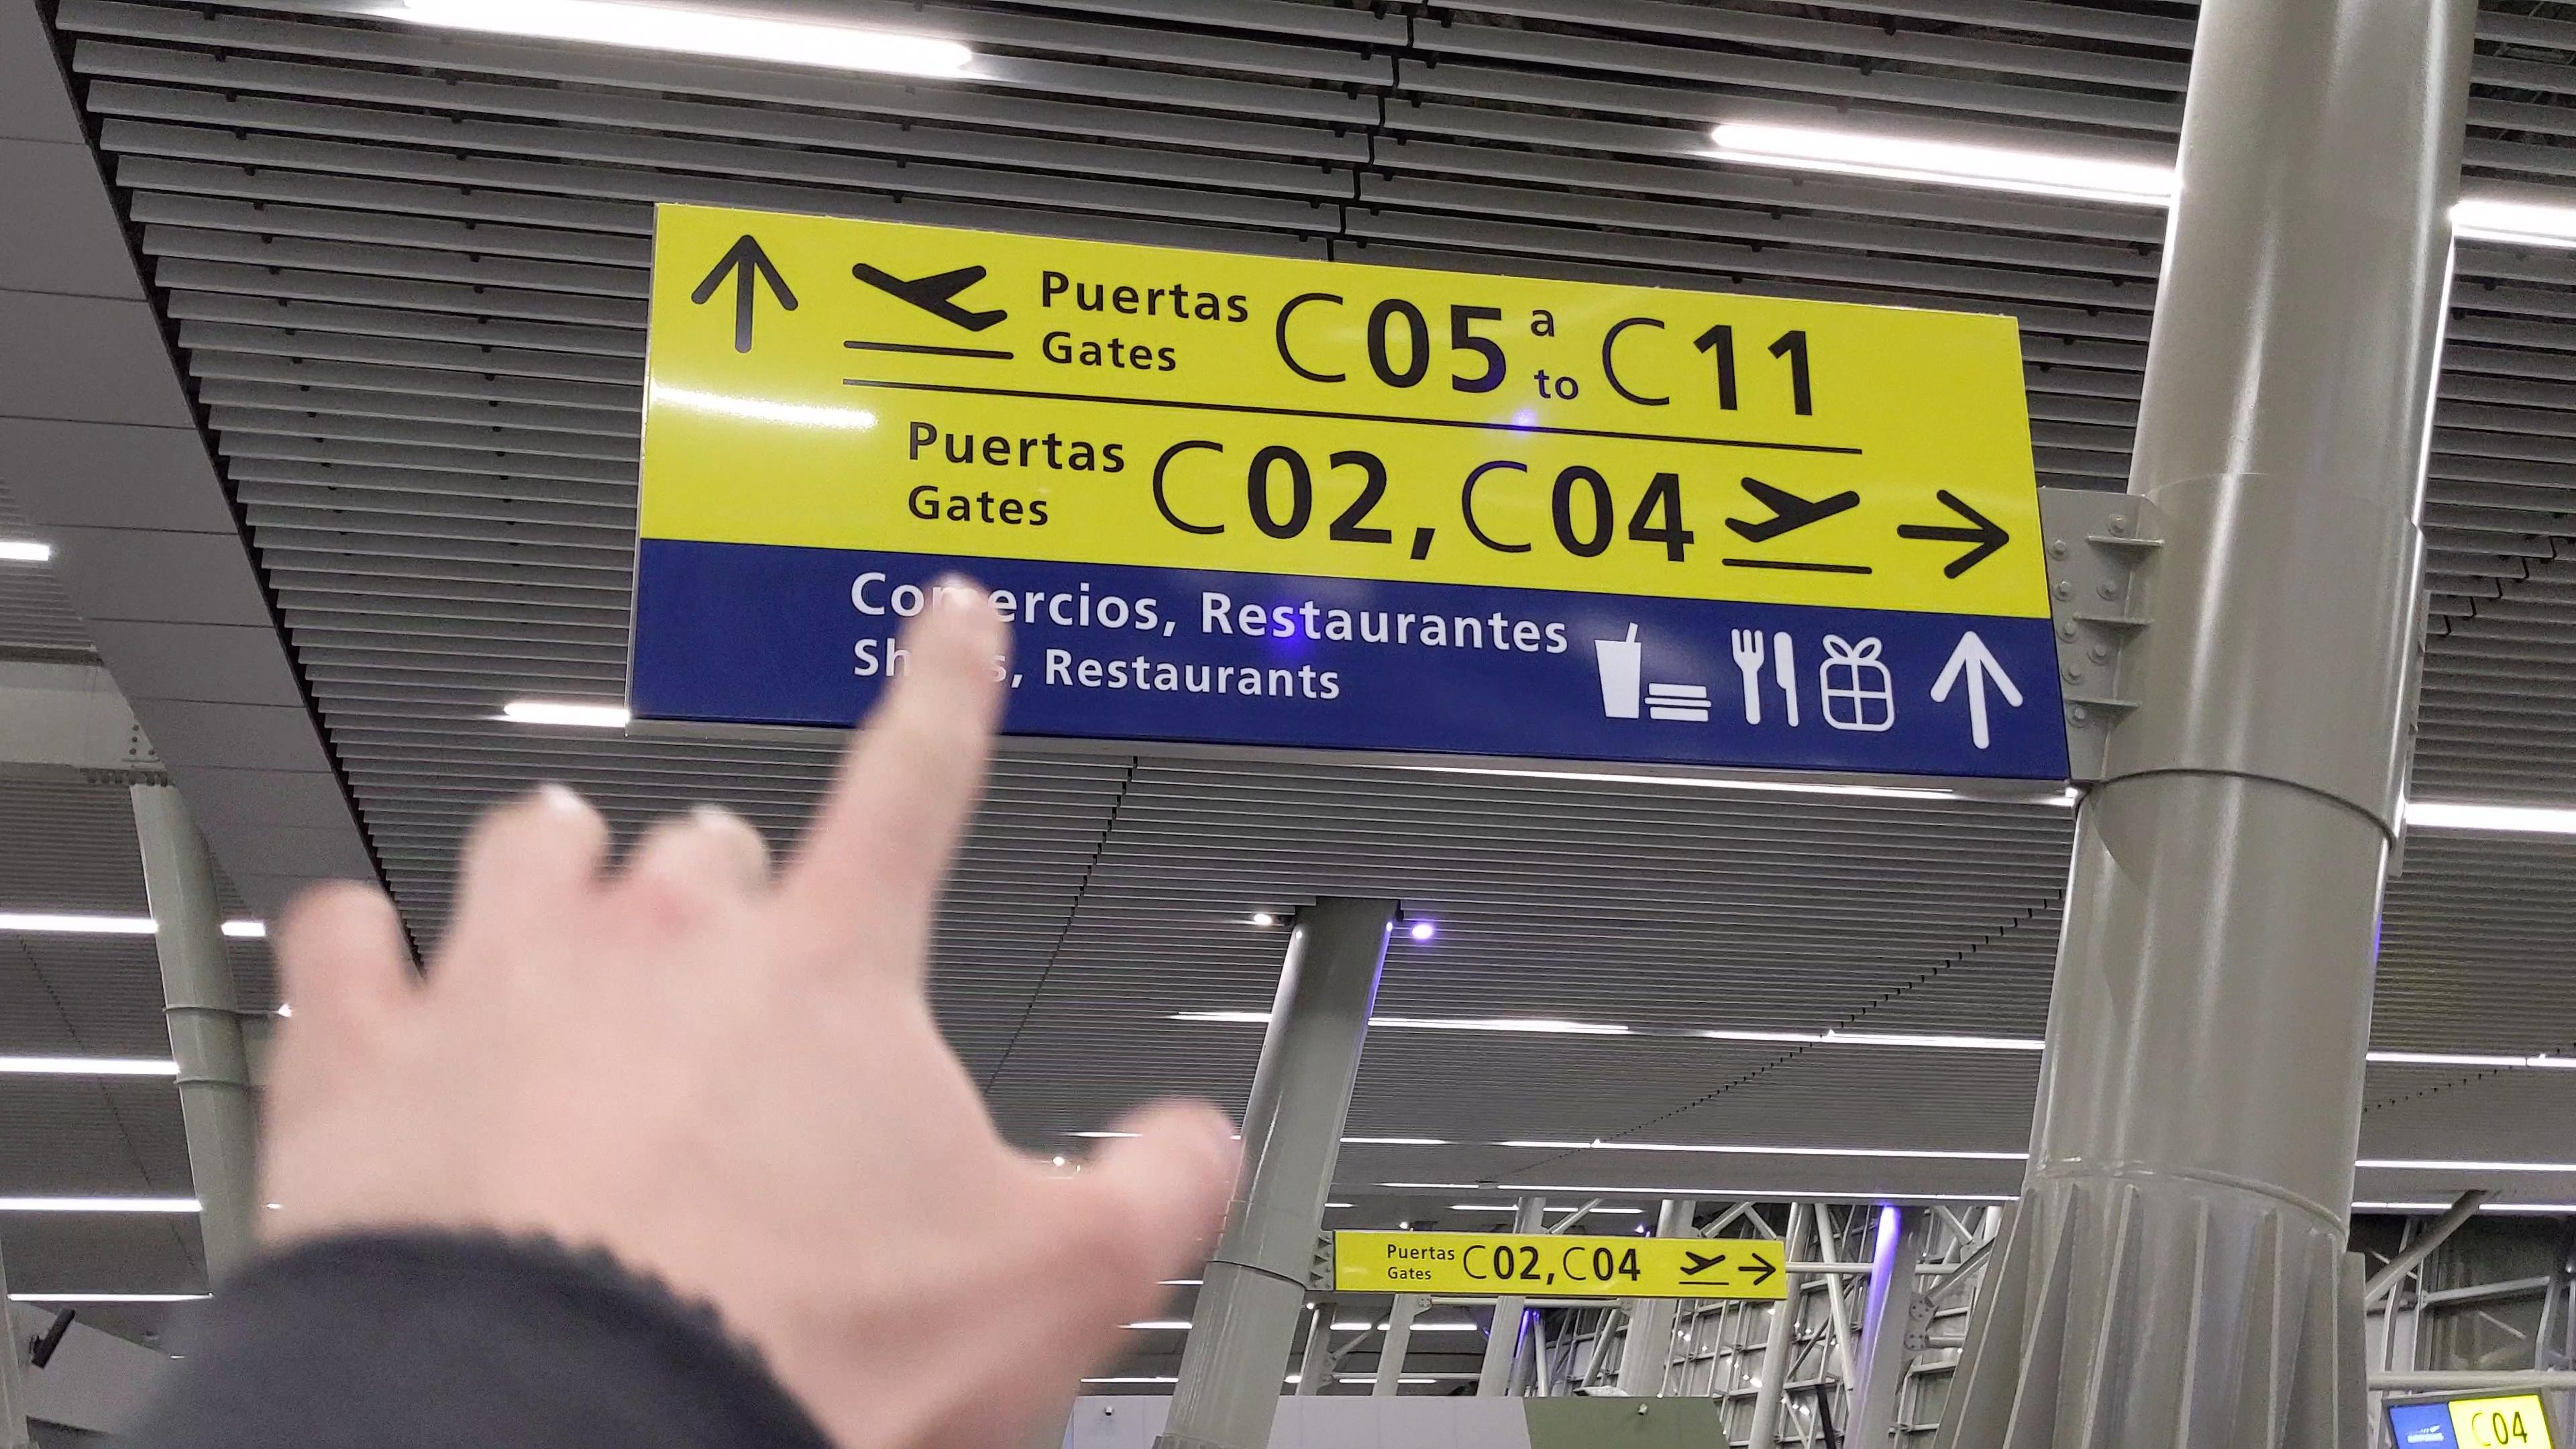airplane symbol: (1675, 1246, 1734, 1281)
emergency exit: (844, 251, 1012, 336), (1723, 467, 1865, 552)
restaurants: (1727, 616, 1805, 736)
thin right arrow: (1930, 625, 2026, 757), (1888, 487, 2015, 582), (1736, 1251, 1778, 1292)
thin up arrow: (685, 230, 805, 361)
